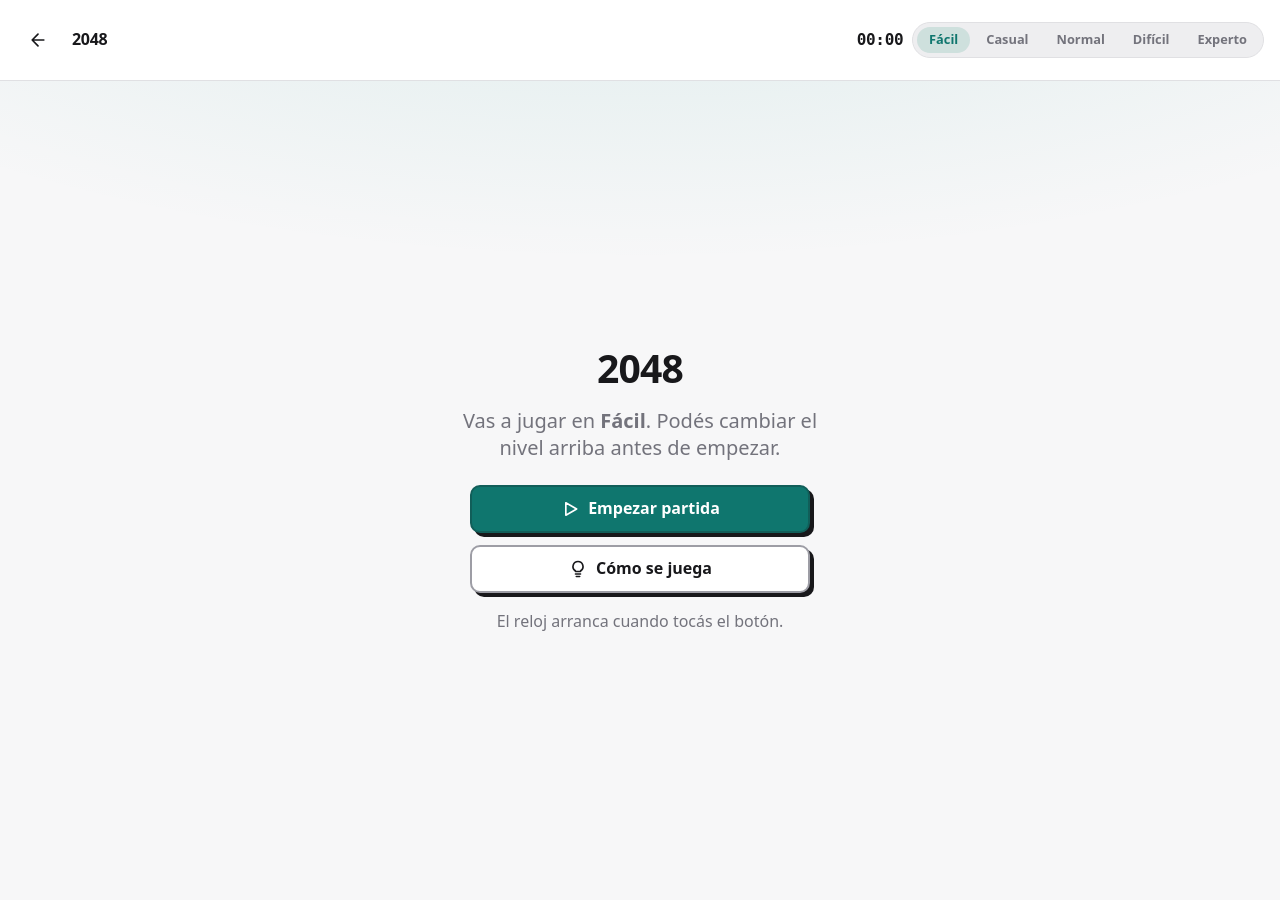
Test: 2048 dentro del shell › carga desde el registro sin que /core sepa qué es
Click the button "Empezar partida" at point(640, 509), box [470, 485, 810, 533]
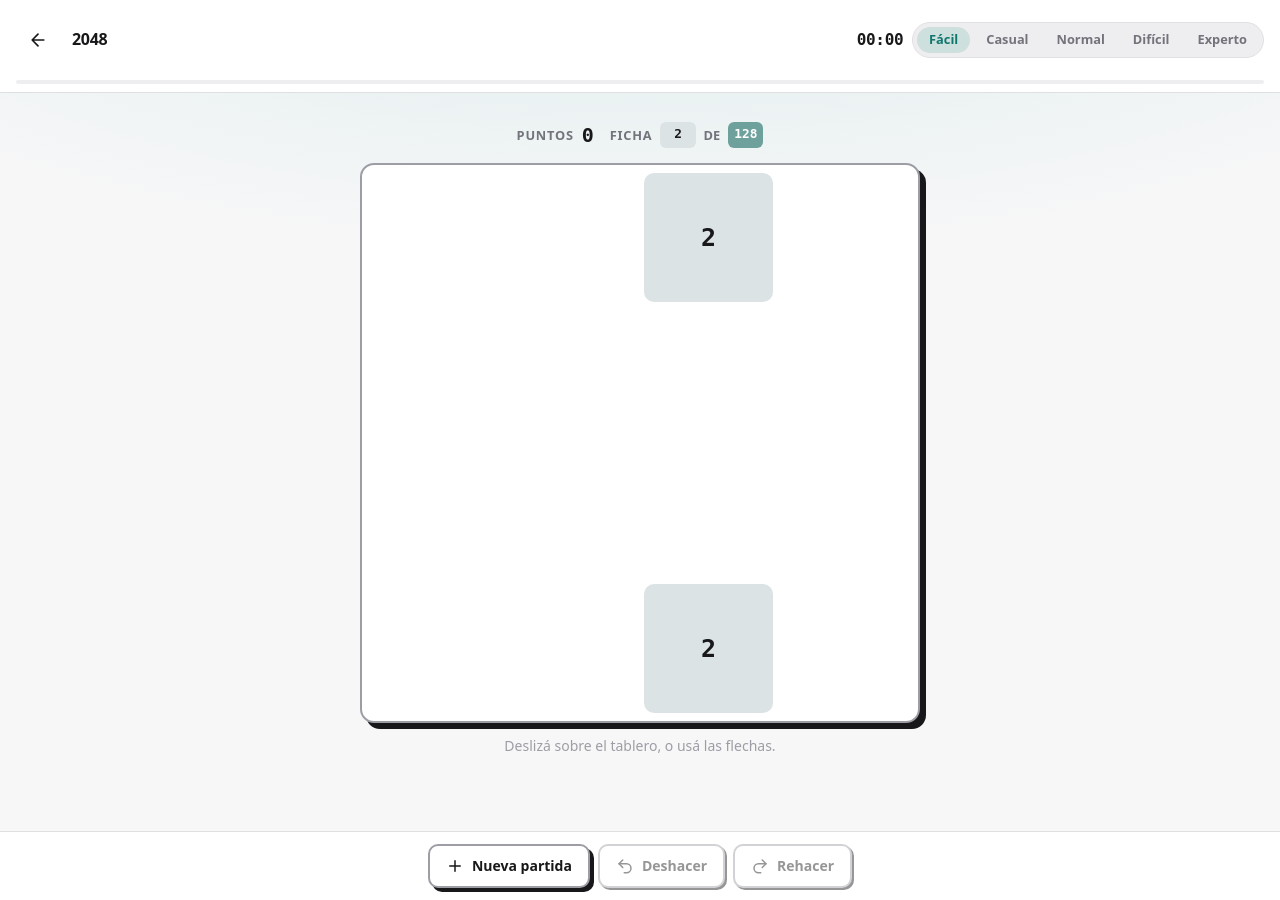
Result: the number of cells is 16
